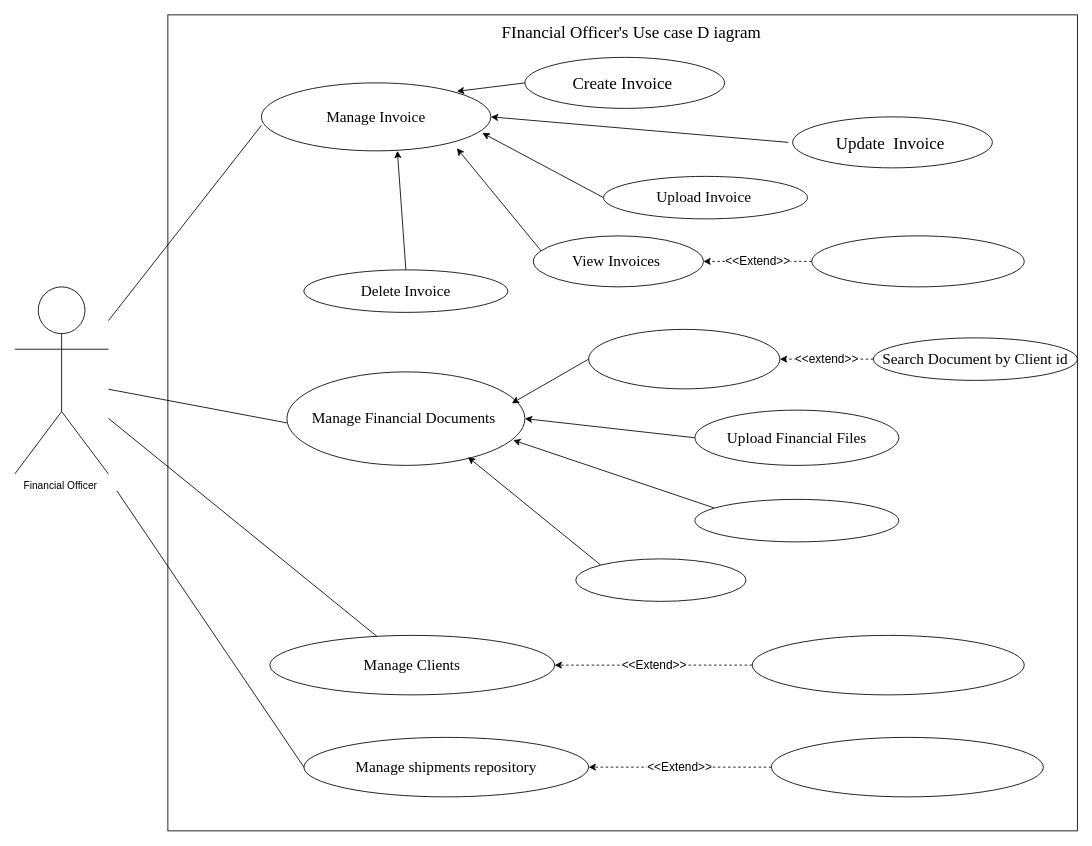
This 1092x846 diagram has some shape labels left out. The box of each missing label's shape, as (x1, y1, x2, y2) in pixels:
Download Files: (575, 558, 746, 601)
Search Client By Id: (751, 635, 1024, 695)
Search Invoice By Clien Id: (811, 235, 1024, 287)
Search Shipment By Client Id: (771, 737, 1043, 797)
Verifies Files: (694, 499, 899, 542)
View Financial Documents: (588, 329, 780, 389)
